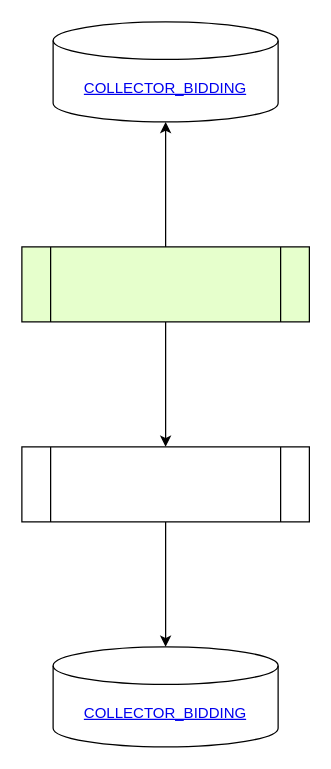
The diagram is 331 pixels wide and 769 high, and some of its shapes have lost their labels. The shapes that lost their labels are listed below. From the top down, each one's centre as x and y in pixels, then its label:
At (x=165, y=284): "sp_create_collector_bidding".
At (x=165, y=484): "sp_req_collect_bidding_max_id".
